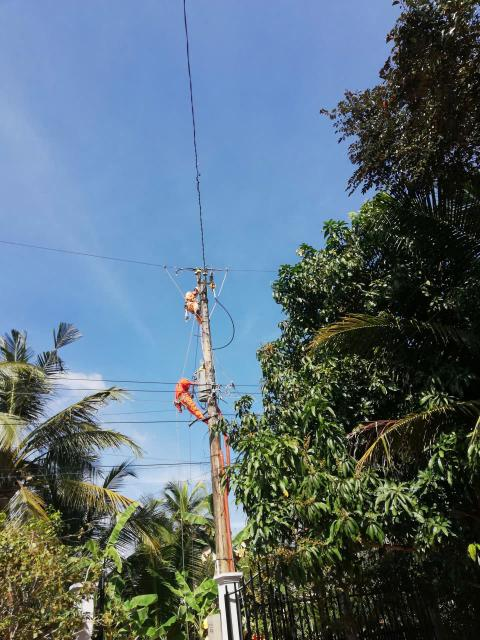harness: (173, 392, 194, 403), (181, 298, 196, 306)
helmet: (193, 286, 203, 292)
